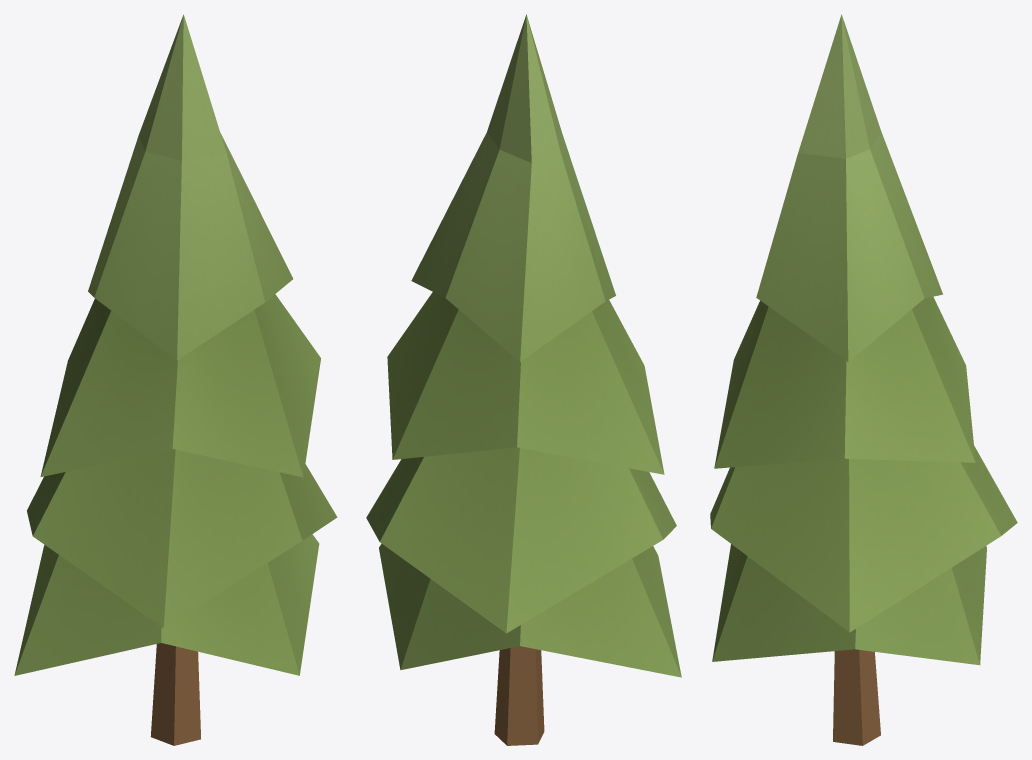
The model's file is Pine_Tree_m_BT_07.fbx.
The picture shows the model from 3 angles, left to right: view 1: azimuth 30°, elevation 25°; view 2: azimuth 150°, elevation 25°; view 3: azimuth 270°, elevation 25°; orthographic projection.
Parts seen in each view (by area): view 1: Pine_Tree_m_BT_07; view 2: Pine_Tree_m_BT_07; view 3: Pine_Tree_m_BT_07.
Boxes of the visible parts, x1=… form: Pine_Tree_m_BT_07: x1=14, y1=14, x2=337, y2=745; Pine_Tree_m_BT_07: x1=366, y1=14, x2=681, y2=745; Pine_Tree_m_BT_07: x1=710, y1=14, x2=1017, y2=745.
Size of the model in its own units: 257 by 554 by 214.
